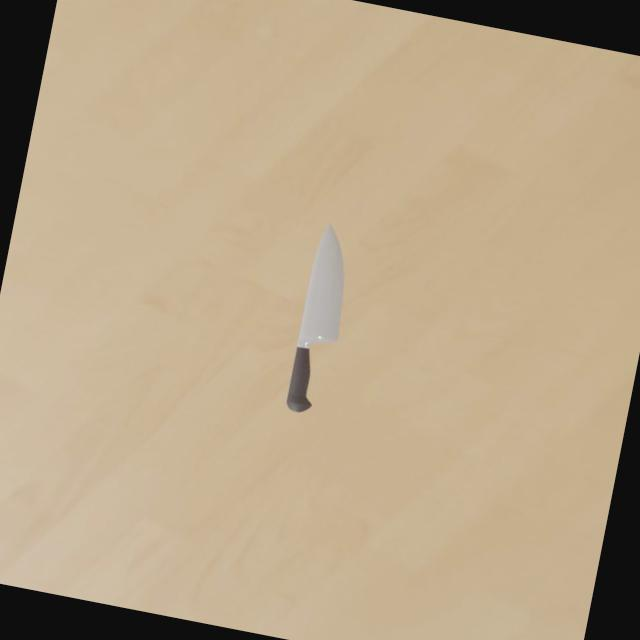knife: (284, 344, 322, 414)
